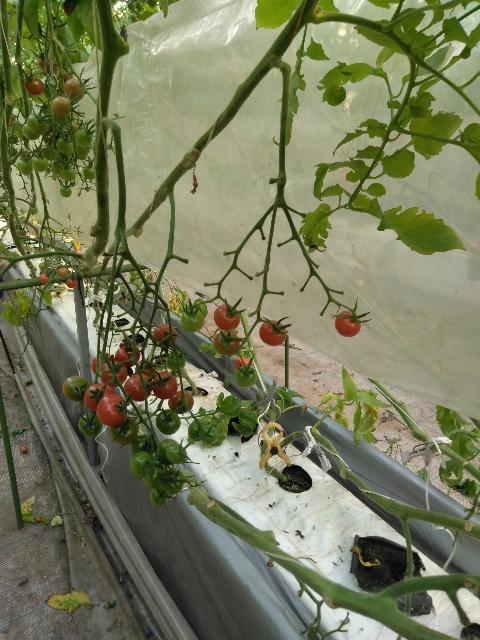l_fully_ripened: (97, 393, 128, 426), (84, 383, 115, 411), (124, 374, 152, 402), (152, 372, 178, 400), (259, 320, 287, 346), (335, 310, 361, 338), (214, 304, 240, 331), (115, 343, 141, 369), (91, 354, 117, 377), (152, 324, 177, 347), (24, 77, 44, 96), (66, 278, 78, 288)
l_green: (130, 451, 156, 478), (156, 409, 181, 435), (155, 439, 179, 466), (78, 413, 103, 437), (181, 308, 205, 333), (161, 469, 184, 495), (130, 434, 156, 456), (188, 418, 210, 441), (27, 114, 50, 136), (235, 366, 257, 388), (142, 467, 163, 490), (166, 444, 187, 464), (166, 350, 186, 371), (199, 424, 218, 445), (150, 487, 171, 506), (23, 122, 41, 141), (32, 154, 49, 172), (56, 137, 73, 155), (75, 129, 92, 147), (193, 298, 208, 318), (17, 158, 33, 175), (61, 167, 76, 182), (74, 143, 90, 156), (59, 185, 72, 198), (83, 166, 95, 180), (8, 148, 19, 158), (8, 133, 18, 143), (29, 206, 38, 215), (16, 228, 26, 236), (39, 262, 47, 271)
l_half_ripened: (100, 361, 128, 388), (109, 419, 138, 445), (62, 375, 89, 402), (168, 390, 194, 415), (213, 331, 240, 355), (135, 359, 157, 380), (65, 79, 86, 101), (51, 97, 71, 118), (39, 57, 56, 76), (40, 273, 50, 284), (57, 268, 69, 277)
